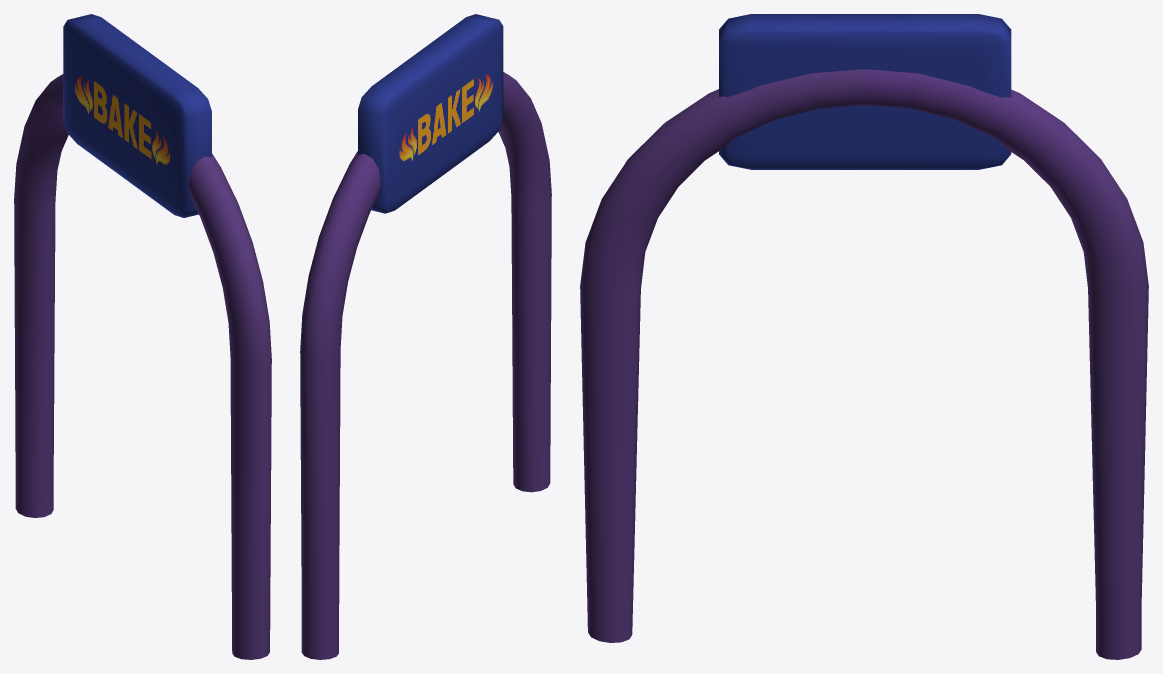
Rendered from bake gate.fbx.
3 renders of one model, left to right at view 1: azimuth 30°, elevation 25°; view 2: azimuth 150°, elevation 25°; view 3: azimuth 270°, elevation 25°, orthographic. The views are drawn at different scales.
Parts seen in each view (by area): view 1: Cube; view 2: Cube; view 3: Cube.
Boxes of the visible parts, x1,y1,x2,y2 form: Cube: [14, 14, 271, 659]; Cube: [300, 14, 551, 659]; Cube: [580, 14, 1148, 659].
Bounding box in the file's own units: 41.86 × 578 × 474.
Materials: 2 (2 with a texture image).
